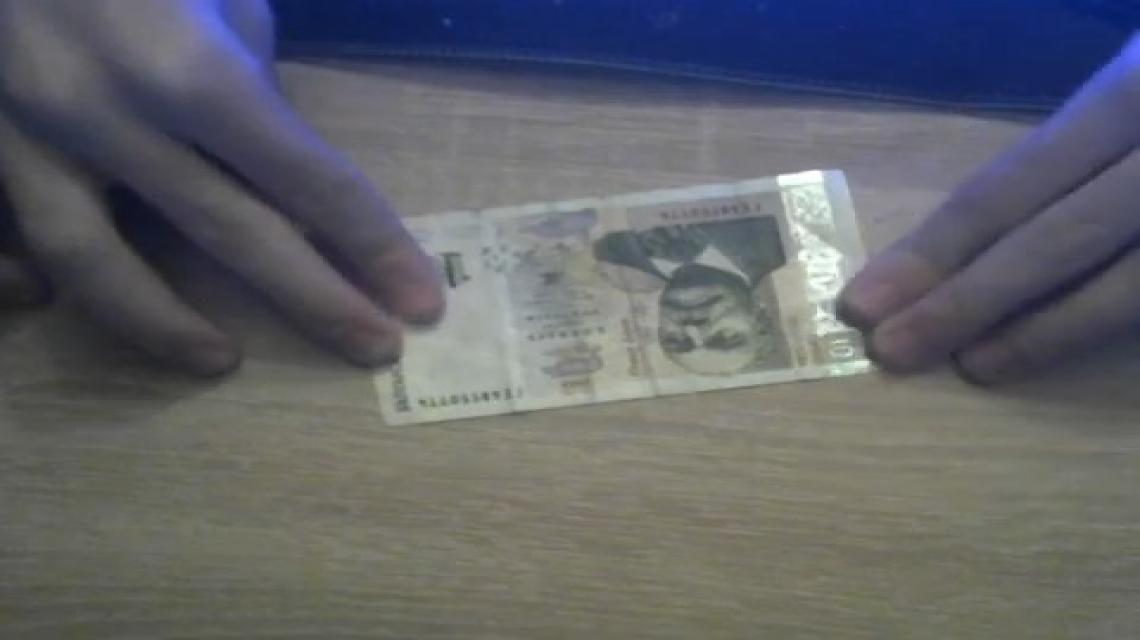10leva: (373, 171, 872, 427), (594, 215, 786, 377)
